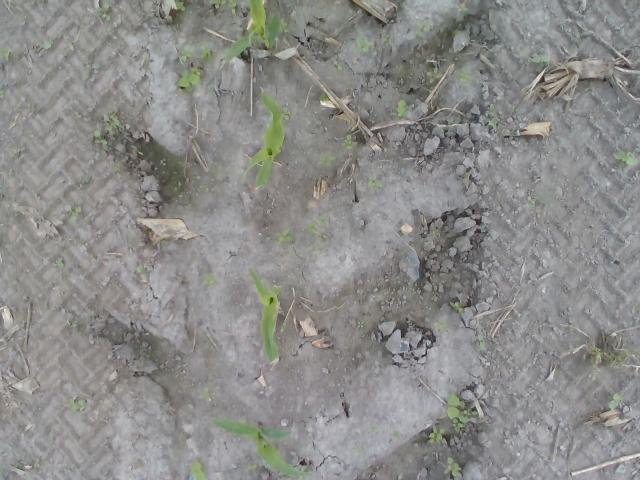Maize: (205, 414, 318, 480), (244, 93, 286, 189), (248, 268, 280, 366)
Weeds: (224, 0, 282, 66), (588, 345, 630, 380), (447, 390, 478, 432), (306, 215, 332, 256), (175, 66, 204, 96), (613, 148, 640, 169), (442, 8, 460, 39), (426, 424, 448, 447), (208, 0, 241, 15), (104, 110, 125, 131), (389, 97, 408, 120), (191, 458, 209, 480), (352, 36, 374, 54), (274, 226, 294, 244), (66, 399, 92, 412), (96, 0, 112, 21), (606, 392, 624, 410), (447, 455, 462, 476), (459, 62, 473, 84), (200, 271, 218, 288), (65, 206, 81, 224), (368, 176, 386, 192), (200, 46, 216, 64), (92, 128, 108, 145), (527, 192, 544, 208), (350, 442, 368, 457), (0, 46, 15, 64), (427, 67, 442, 84), (320, 152, 338, 166), (173, 180, 186, 199), (200, 387, 216, 402), (30, 38, 54, 48), (180, 46, 193, 63), (532, 54, 550, 66), (243, 462, 260, 474), (450, 300, 464, 314), (51, 255, 66, 268), (417, 20, 432, 33), (341, 132, 352, 149), (80, 64, 91, 81), (278, 18, 290, 33), (486, 111, 496, 128), (280, 104, 290, 120), (69, 110, 82, 122), (432, 319, 448, 328), (478, 334, 486, 352), (0, 462, 9, 478), (279, 319, 287, 336), (174, 0, 186, 11), (456, 2, 469, 12), (196, 184, 210, 193), (368, 423, 380, 433), (132, 147, 145, 156), (64, 320, 80, 327), (79, 175, 90, 185), (431, 227, 441, 238), (392, 431, 402, 441), (334, 63, 345, 72), (383, 34, 392, 44), (112, 163, 122, 172), (318, 93, 328, 101), (160, 157, 168, 167), (0, 88, 8, 98), (357, 320, 365, 329), (288, 475, 302, 480), (136, 264, 144, 272), (551, 123, 560, 130), (398, 232, 404, 240)
